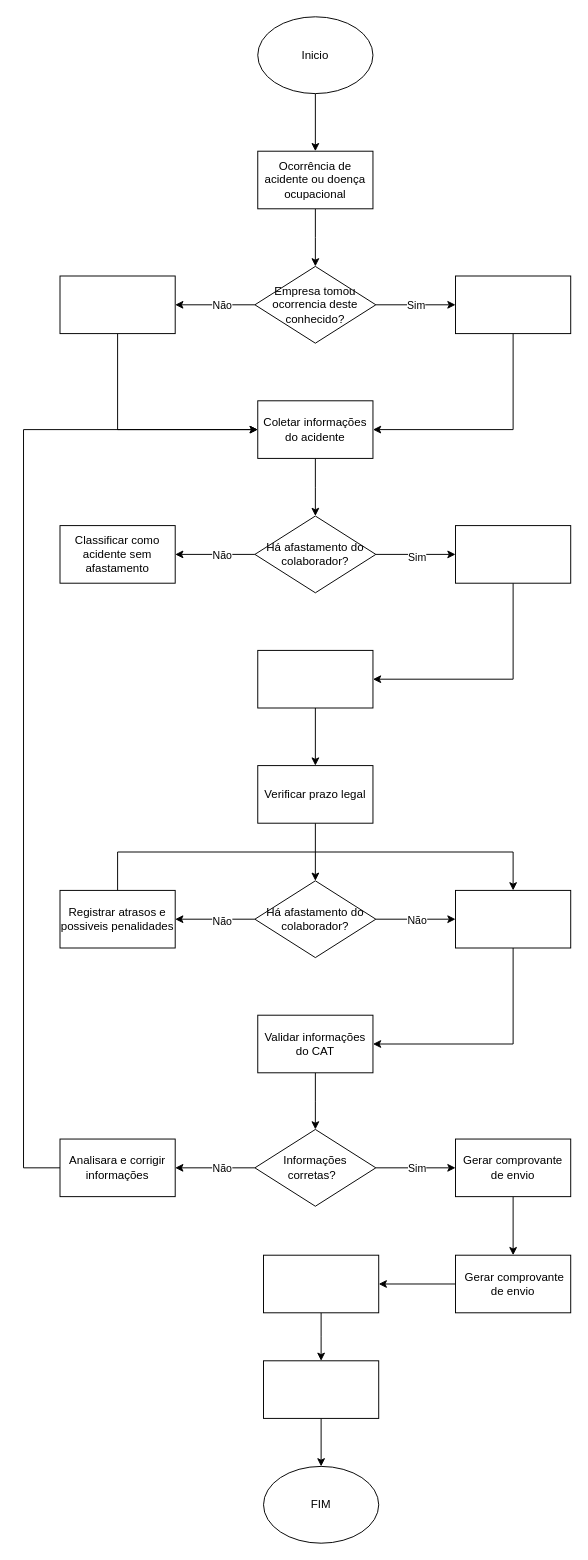
Image size: 588x1560. Some labels were removed from this diagram. The shapes that lost their labels are listed below. From the top down, each one's box as (x1, y1, x2, y2) in pixels, then its label:
(59, 275, 175, 334): Aguardar esta comunicação
(455, 275, 571, 334): Iniciar procedimento
(455, 525, 571, 583): Identificar tipo de afastamento
(257, 649, 373, 708): Classificalo (Tipico, trajeto, doença ocupacional...)
(455, 889, 571, 948): Preencher CAT no sistema
(263, 1254, 379, 1313): Enviar CAT ao cliente e orientar sobre o caso
(263, 1360, 379, 1418): Registrar e arquivar documentação
